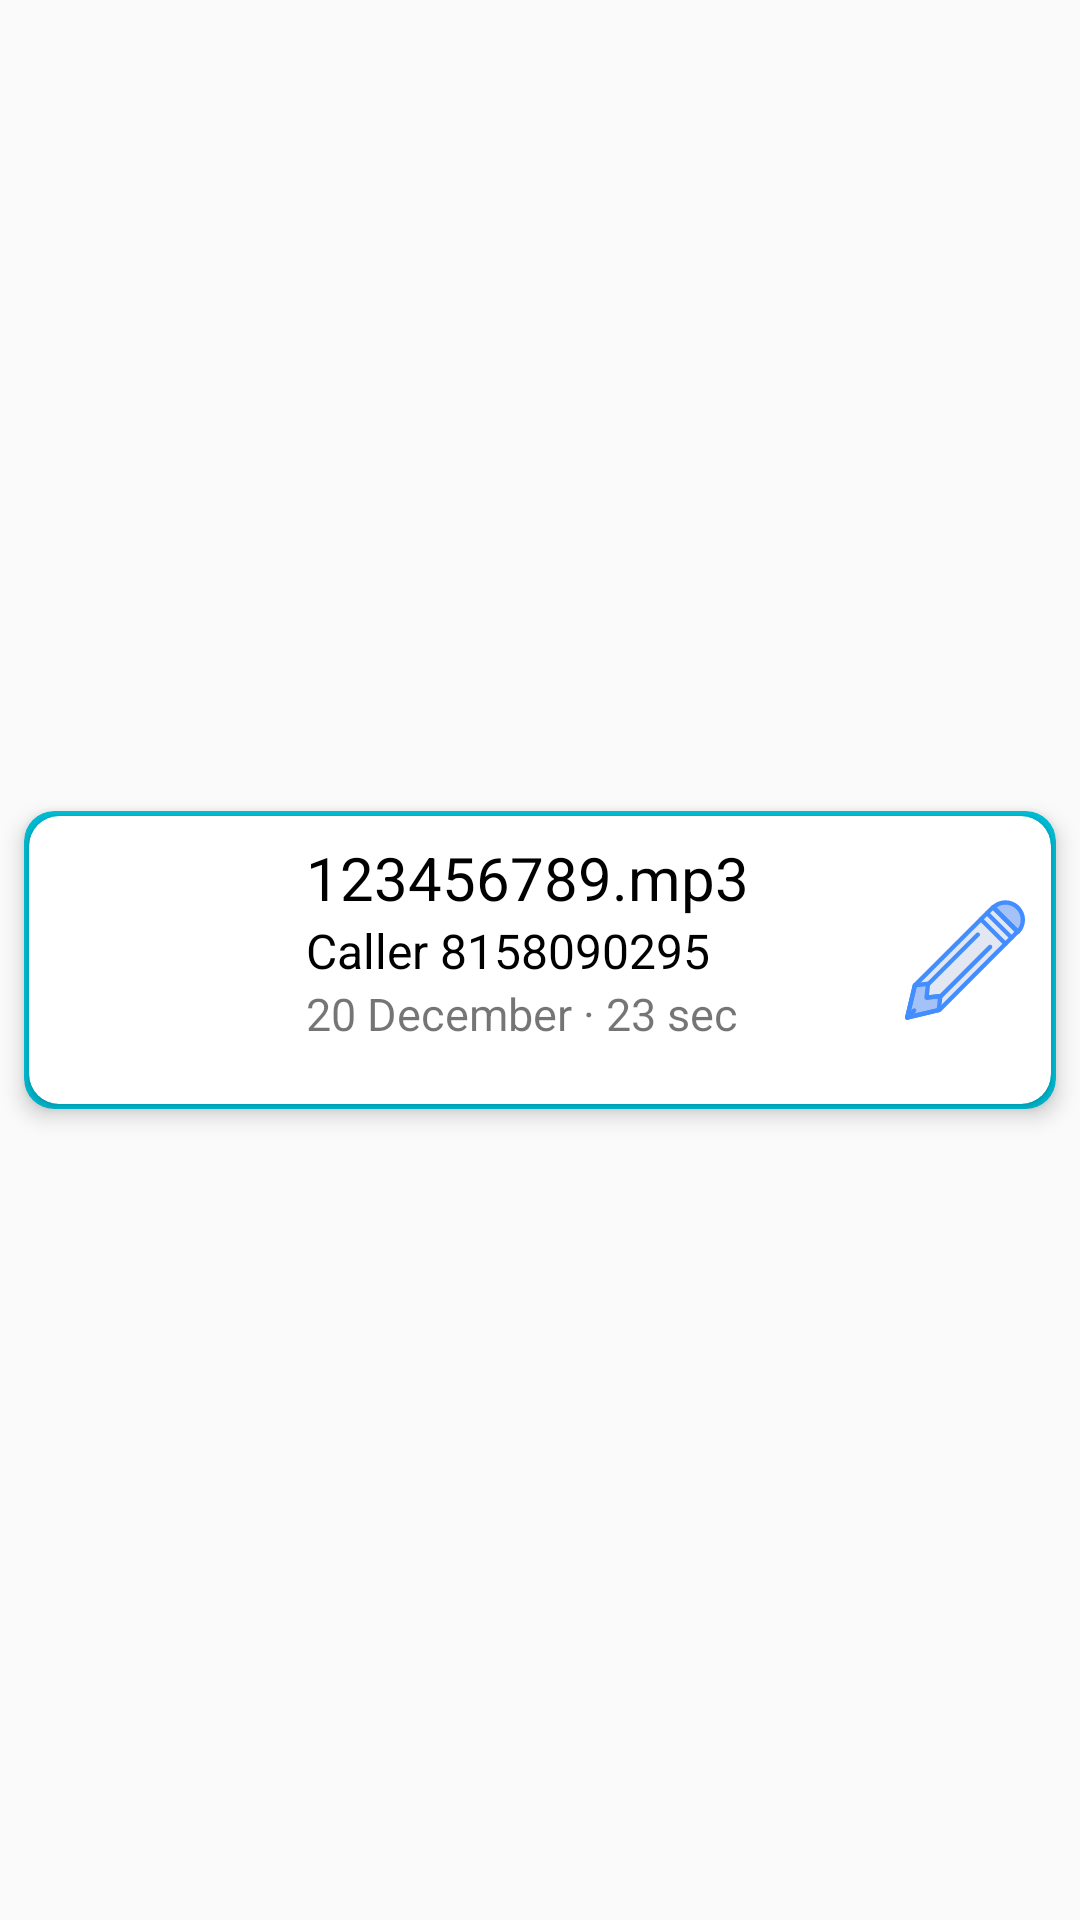

Icon click points for this 1080px x 1920px phone screenshot, format point (x, y):
pencil: point (965, 960)
